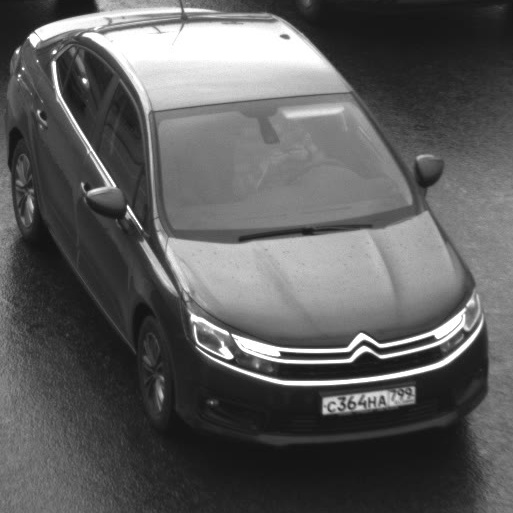plate: (307, 372, 424, 422)
